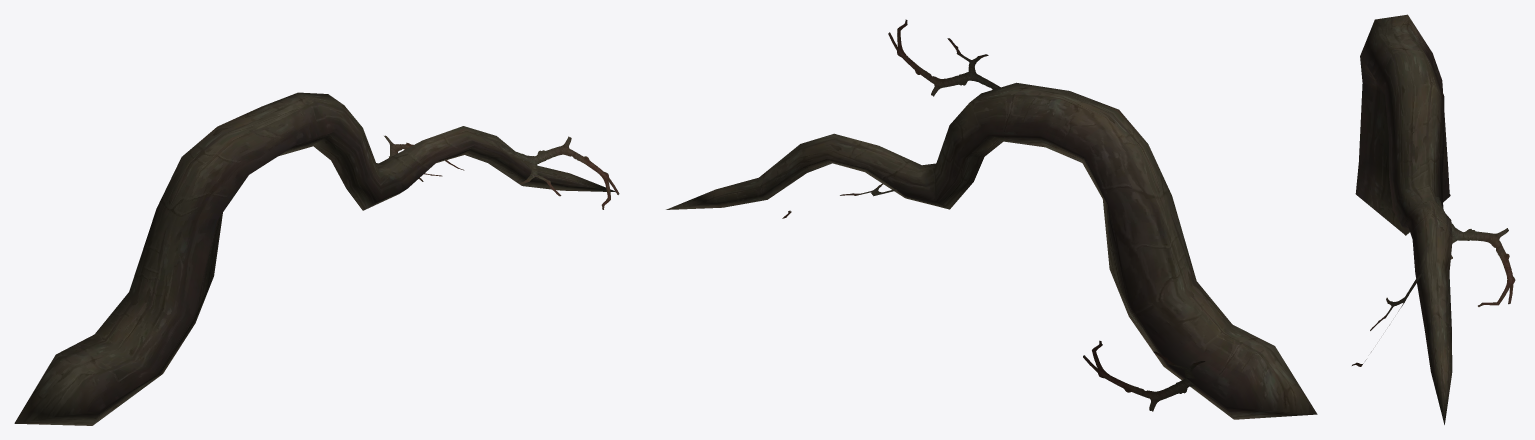
The picture shows the model from 3 angles, left to right: view 1: azimuth 30°, elevation 25°; view 2: azimuth 150°, elevation 25°; view 3: azimuth 270°, elevation 25°; orthographic projection. The views are drawn at different scales.
Bounding box in the file's own units: 12.07 × 6.13 × 2.73.
2 materials, 2 textured.
